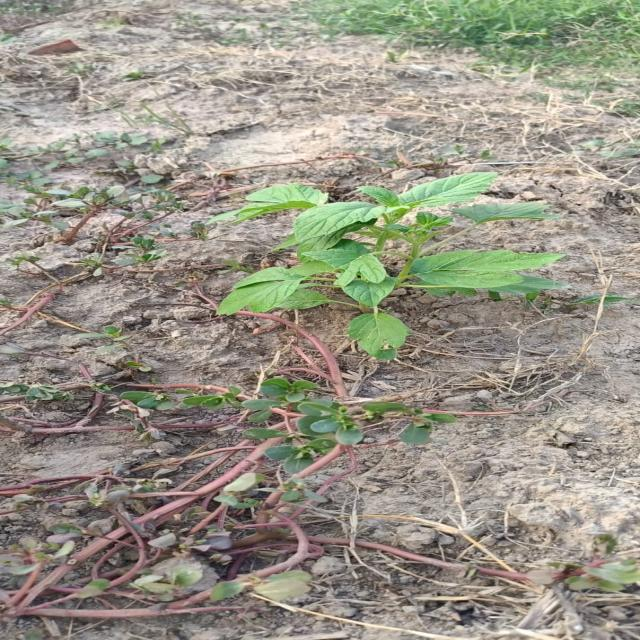plant: (207, 172, 565, 360), (216, 172, 496, 359), (419, 251, 561, 290), (450, 202, 557, 233), (236, 185, 323, 215)
